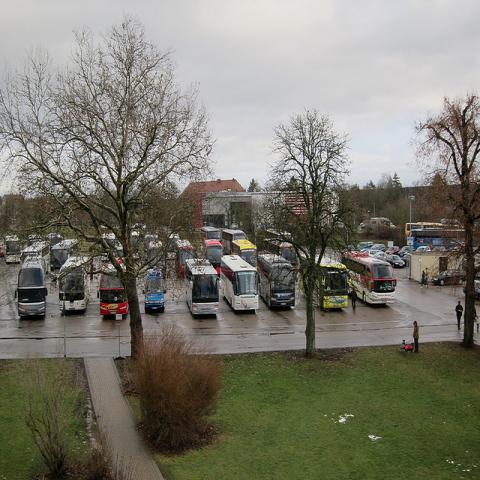bus: (340, 244, 401, 304), (297, 254, 349, 312), (219, 253, 261, 311), (256, 253, 295, 312), (14, 254, 48, 320), (59, 255, 90, 315), (186, 259, 218, 316), (98, 257, 129, 315), (405, 222, 463, 240), (204, 239, 224, 276), (232, 238, 258, 266), (145, 274, 164, 311)
car: (431, 270, 466, 286), (463, 280, 479, 296), (386, 255, 404, 267), (368, 244, 387, 255), (371, 251, 387, 261), (383, 246, 400, 255), (398, 245, 410, 256), (415, 246, 431, 251)
